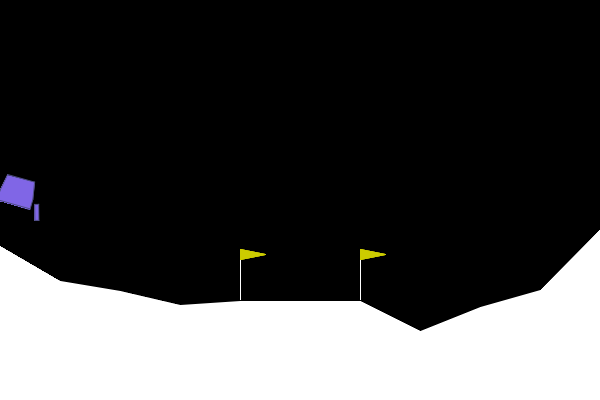lander: (0, 169, 50, 223)
